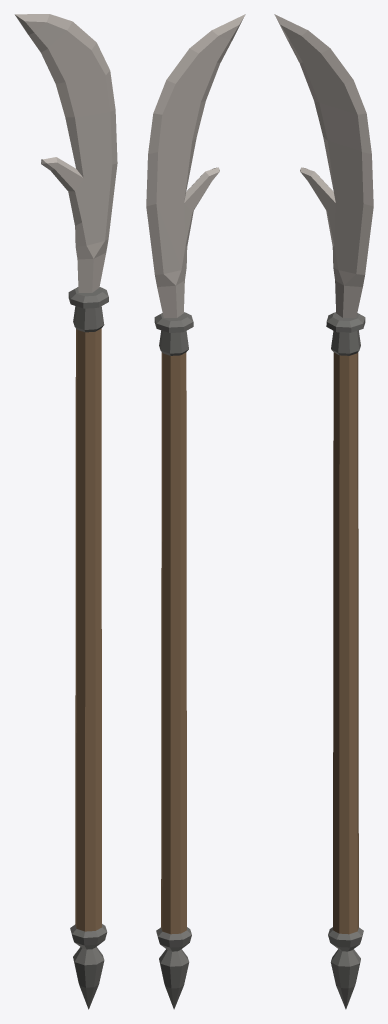
Rendered from SM_pwe_china_halberd_02.fbx.
3 views of the same model, side by side, from view 1: azimuth 30°, elevation 25°; view 2: azimuth 210°, elevation 25°; view 3: azimuth 330°, elevation 25° (orthographic). The views are drawn at different scales.
Visible parts, largest first — view 1: SM_pwe_china_halberd_02; view 2: SM_pwe_china_halberd_02; view 3: SM_pwe_china_halberd_02.
Boxes of the visible parts, x1,y1,x2,y2 form: SM_pwe_china_halberd_02: [14, 14, 117, 1009]; SM_pwe_china_halberd_02: [146, 14, 245, 1009]; SM_pwe_china_halberd_02: [274, 14, 373, 1009].
Bounding box in the file's own units: 19.26 × 181 × 6.76.
